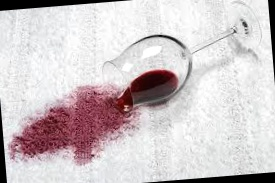wine: (14, 81, 141, 171)
